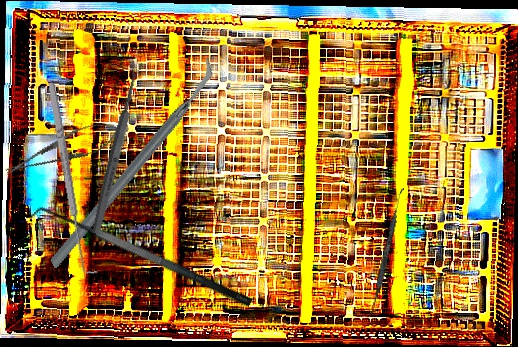Chopper: (0, 56, 264, 269)
Hook Surgical: (45, 79, 98, 278)
Needle Holder: (0, 114, 126, 185)
Spatula Surgical: (29, 195, 253, 326), (370, 186, 404, 315)
Surgical Spoon: (89, 61, 145, 235)
